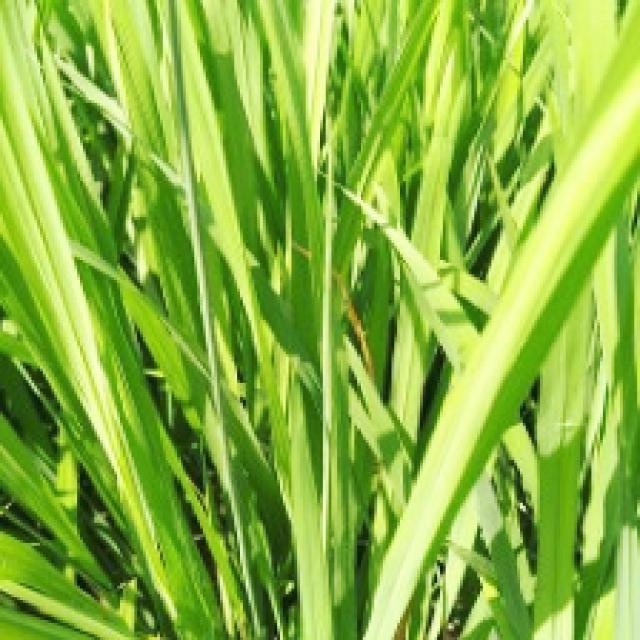health: (0, 0, 283, 514)
